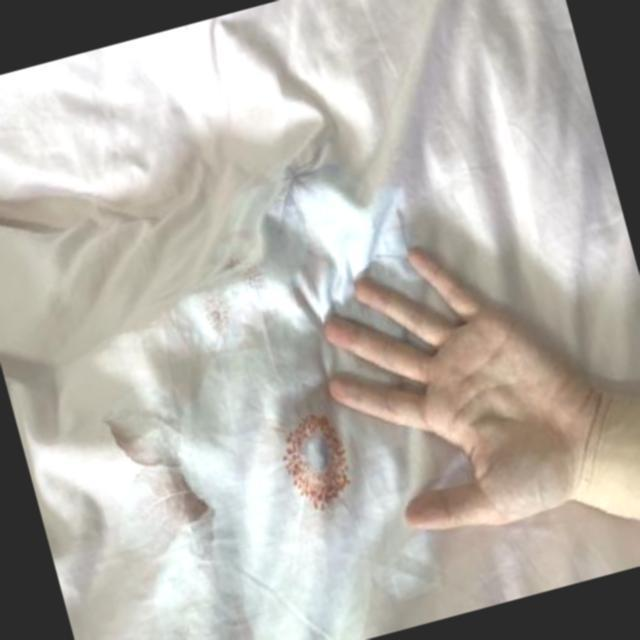hand: (284, 190, 624, 569)
